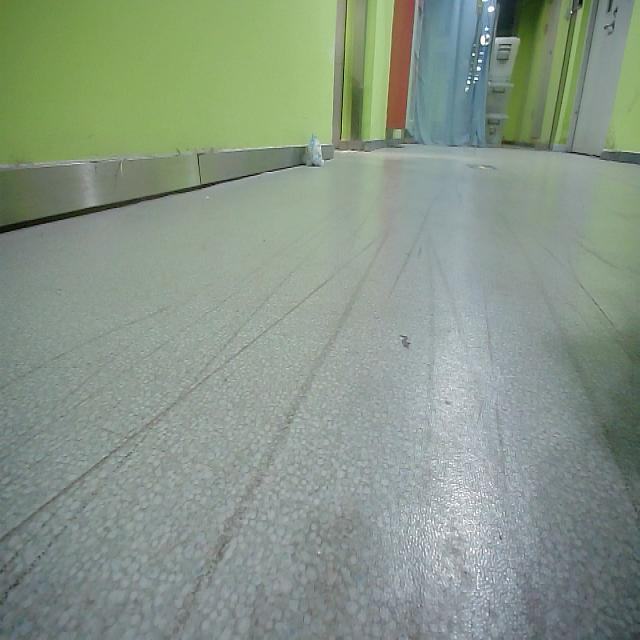xiaoba: (300, 132, 331, 171)
